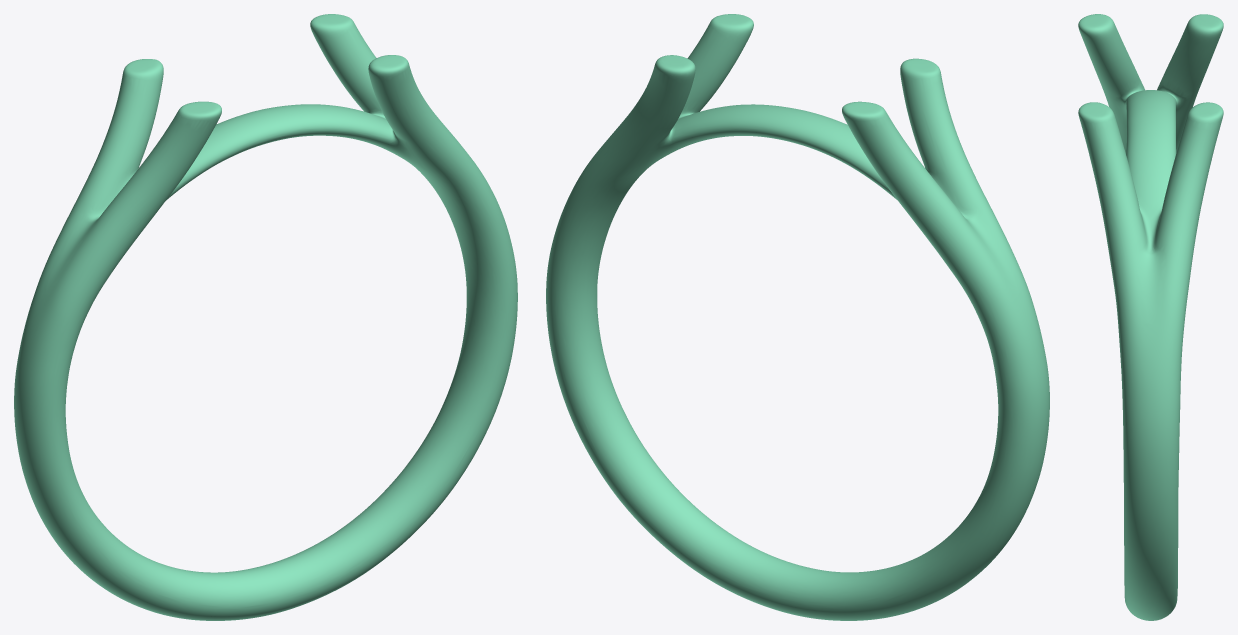
3 renders of one model, left to right at view 1: azimuth 30°, elevation 25°; view 2: azimuth 150°, elevation 25°; view 3: azimuth 270°, elevation 25°, orthographic. The views are drawn at different scales.
Visible parts, largest first — view 1: Metal02; view 2: Metal02; view 3: Metal02.
Boxes of the visible parts, left/top/right/bottom form: Metal02: left=14, top=14, right=517, bottom=620; Metal02: left=546, top=14, right=1049, bottom=620; Metal02: left=1078, top=14, right=1223, bottom=620.
Size of the model in its own units: 20.82 by 22.11 by 5.49.
